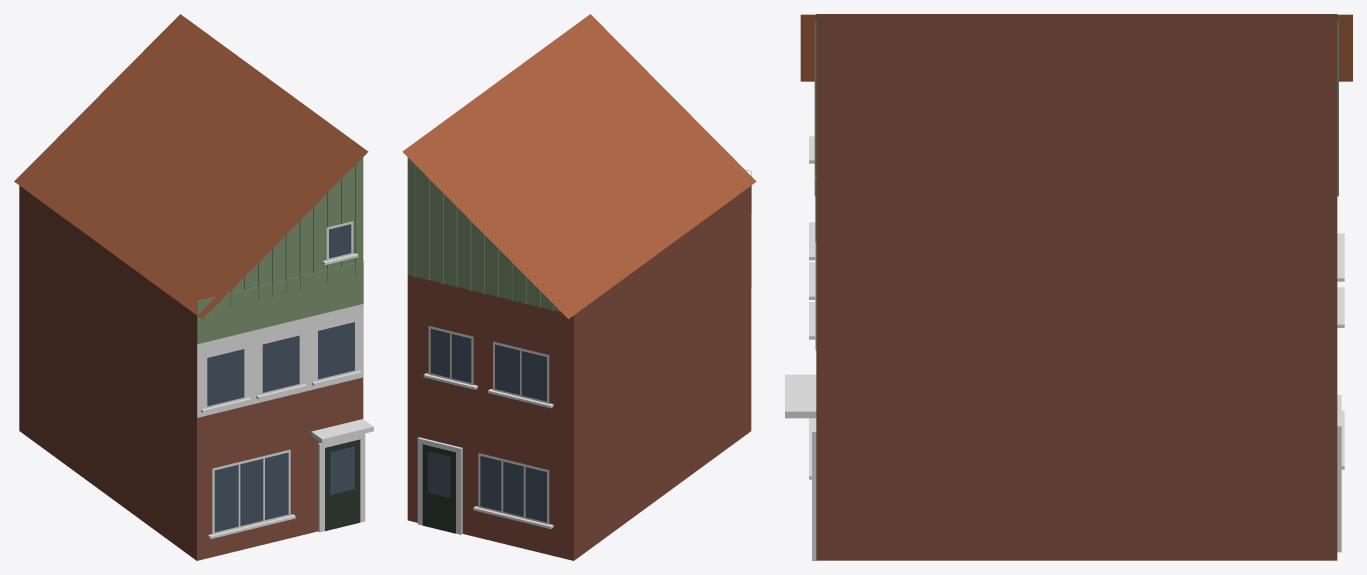
Rendered from nd-bz-green-gable__green__2__gable__short__solid__f0d1.glb.
3 views of the same model, side by side, from view 1: azimuth 30°, elevation 25°; view 2: azimuth 150°, elevation 25°; view 3: azimuth 270°, elevation 25° (orthographic). The views are drawn at different scales.
Parts seen in each view (by area): view 1: nd-bz-green-gable__green__2__gable__short__solid__f0d1; view 2: nd-bz-green-gable__green__2__gable__short__solid__f0d1; view 3: nd-bz-green-gable__green__2__gable__short__solid__f0d1.
Boxes of the visible parts, bbox=[...] form: nd-bz-green-gable__green__2__gable__short__solid__f0d1: bbox=[14, 14, 373, 560]; nd-bz-green-gable__green__2__gable__short__solid__f0d1: bbox=[402, 14, 756, 560]; nd-bz-green-gable__green__2__gable__short__solid__f0d1: bbox=[785, 14, 1352, 560].
Size of the model in its own units: 4.51 by 9.62 by 9.05.
